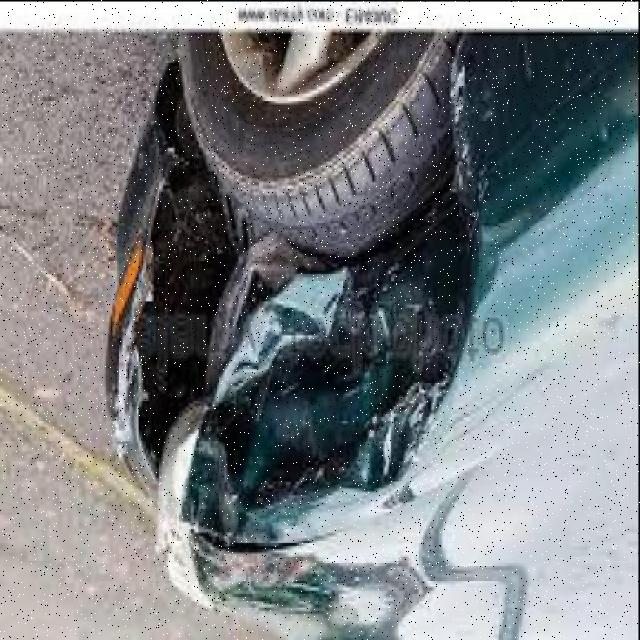damage: (127, 58, 473, 599)
